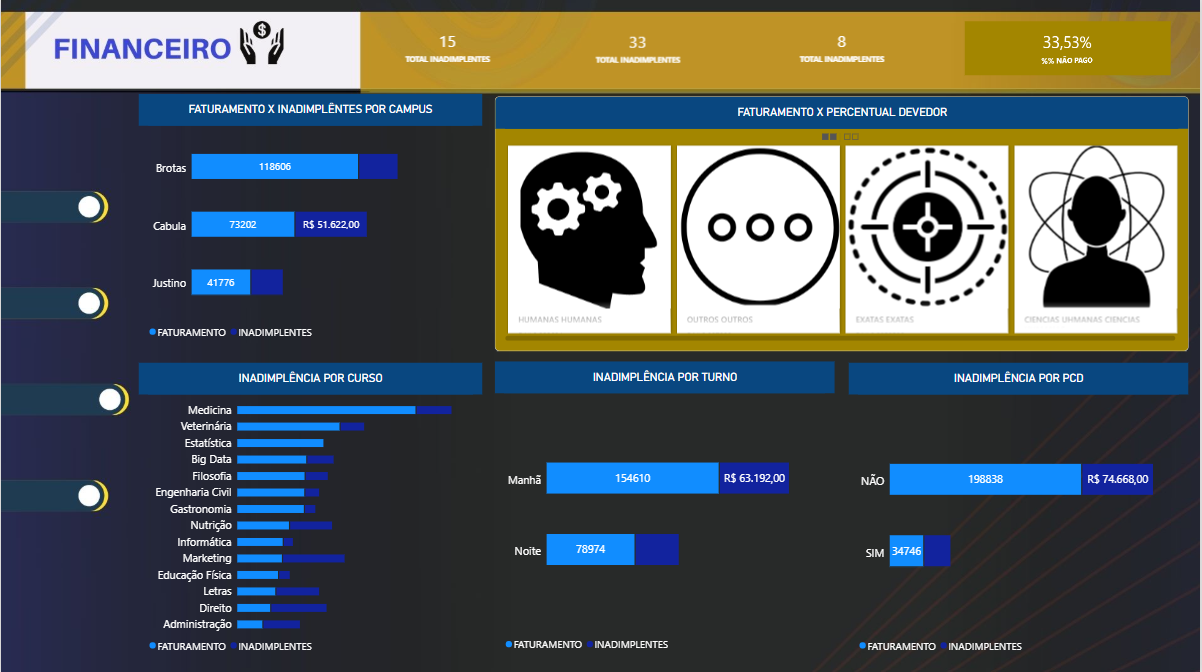

Layout of this report page (visuals, bound fields, positions):
{"tool":"powerbi","page":{"name":"FINANCEIRO","canvas":[1920,1080],"ordinal":3},"visuals":[{"type":"shape","box":[116.7,768.3,56.7,51.7],"z":0},{"type":"shape","box":[115.8,304,56.7,51.7],"z":1000},{"type":"shape","box":[115.8,459.7,56.7,51.7],"z":2000},{"type":"barChart","title":"FATURAMENTO X  INADIMPLÊNTES POR CAMPUS","fields":{"Category":["dim_campus.Campus"],"Y":["MEDIDAS.FAT","MEDIDAS.FAT_INADIMPLENTES"]},"box":[220,150,550,412],"z":3000},{"type":"barChart","title":"INADIMPLÊNCIA POR CURSO","fields":{"Category":["dim_cursos.Curso"],"Y":["MEDIDAS.FAT","MEDIDAS.FAT_INADIMPLENTES"]},"box":[220,580,550,484],"z":4000},{"type":"barChart","title":"INADIMPLÊNCIA POR TURNO","fields":{"Category":["dim_turno.Turno"],"Y":["MEDIDAS.FAT","MEDIDAS.FAT_INADIMPLENTES"]},"box":[790,578,544,484],"z":5000},{"type":"barChart","title":"INADIMPLÊNCIA POR PCD","fields":{"Category":["dim_pcd.PCD"],"Y":["MEDIDAS.FAT","MEDIDAS.FAT_INADIMPLENTES"]},"box":[1356,580,544,484],"z":6000},{"type":"CardBrowser8D7CFFDA2E7E400C9474F41B9EDBBA58","title":"FATURAMENTO X PERCENTUAL DEVEDOR","fields":{"imageUrl":["FATO_BASE.IMG  EXATAS"],"id":["FATO_BASE.EXATAS HUMANAS"],"title":["FATO_BASE.EXATAS HUMANAS"],"metadata":["MEDIDAS.%% NÃO PAGO"],"summary":["MEDIDAS.FAT REAL"]},"box":[790,154,1110,408],"z":7000},{"type":"rotatingTile1859AB39DB23400988ADF752BCB9C967","fields":{"measureData":["Min(dim_campus.Campus)","MEDIDAS.TOTAL NAO PAGO"]},"box":[564.6,32.6,300.4,86.9],"z":8000},{"type":"rotatingTile1859AB39DB23400988ADF752BCB9C967","fields":{"measureData":["Min(dim_campus.Campus)","MEDIDAS.TOTAL NAO PAGO"]},"box":[1188.9,32.6,314.9,88.7],"z":9000},{"type":"rotatingTile1859AB39DB23400988ADF752BCB9C967","fields":{"measureData":["Min(dim_campus.Campus)","MEDIDAS.TOTAL NAO PAGO"]},"box":[819.8,34.4,398.1,85.1],"z":10000},{"type":"rotatingTile1859AB39DB23400988ADF752BCB9C967","fields":{"measureData":["MEDIDAS.%% PAGO","MEDIDAS.%% NÃO PAGO"]},"box":[1541.8,34.4,329.9,86.5],"z":11000}]}

Visuals, with their boxes in screenshot pixels (x1, y1, x2, y2), scaled from the page's 1920x1080 canvas onto the 1202x672 screenshot:
shape: 73,478,109,510
shape: 72,189,108,221
shape: 72,286,108,318
"FATURAMENTO X  INADIMPLÊNTES POR CAMPUS" barChart: 138,93,482,350
"INADIMPLÊNCIA POR CURSO" barChart: 138,361,482,662
"INADIMPLÊNCIA POR TURNO" barChart: 495,360,835,661
"INADIMPLÊNCIA POR PCD" barChart: 849,361,1189,662
"FATURAMENTO X PERCENTUAL DEVEDOR" CardBrowser8D7CFFDA2E7E400C9474F41B9EDBBA58: 495,96,1189,350
rotatingTile1859AB39DB23400988ADF752BCB9C967 - Min(dim_campus.Campus) x MEDIDAS.TOTAL NAO PAGO: 353,20,542,74
rotatingTile1859AB39DB23400988ADF752BCB9C967 - Min(dim_campus.Campus) x MEDIDAS.TOTAL NAO PAGO: 744,20,941,75
rotatingTile1859AB39DB23400988ADF752BCB9C967 - Min(dim_campus.Campus) x MEDIDAS.TOTAL NAO PAGO: 513,21,762,74
rotatingTile1859AB39DB23400988ADF752BCB9C967 - MEDIDAS.%% PAGO x MEDIDAS.%% NÃO PAGO: 965,21,1172,75
